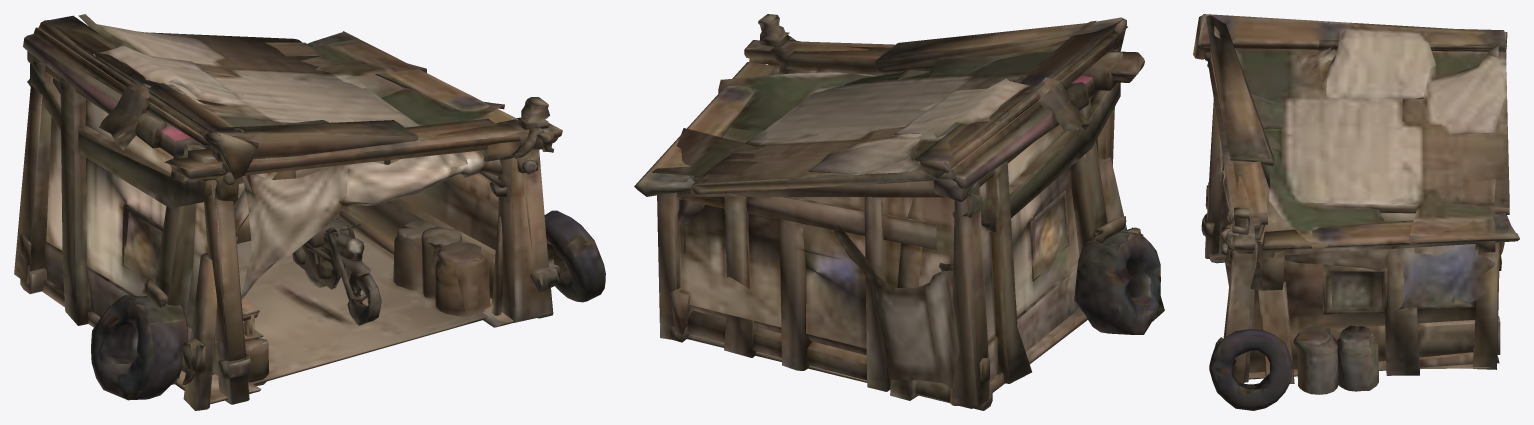
File: shelter_t1_garage.glb
3 renders of one model, left to right at view 1: azimuth 30°, elevation 25°; view 2: azimuth 150°, elevation 25°; view 3: azimuth 270°, elevation 25°, orthographic. The views are drawn at different scales.
Bounding box in the file's own units: 0.2632 × 0.1484 × 0.187.
Materials: 1 (1 with a texture image).
